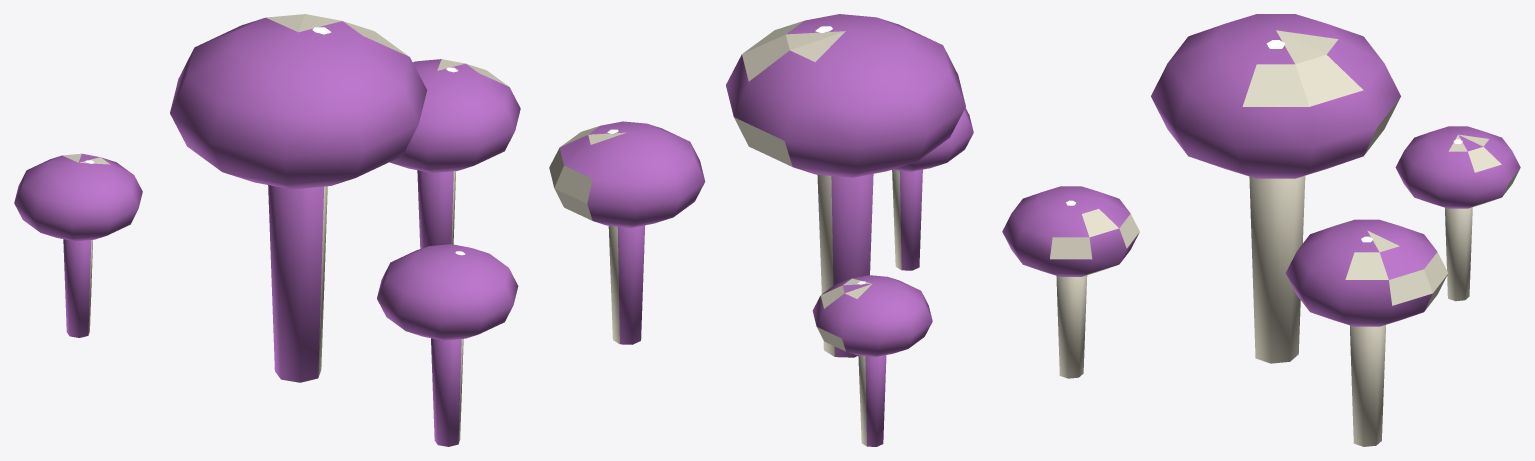
The model's file is mushroom_small.glb.
The picture shows the model from 3 angles, left to right: view 1: azimuth 30°, elevation 25°; view 2: azimuth 150°, elevation 25°; view 3: azimuth 270°, elevation 25°; orthographic projection. The views are drawn at different scales.
Parts seen in each view (by area): view 1: Mushroom_Small; view 2: Mushroom_Small; view 3: Mushroom_Small.
Part boxes in pixels (x1=…): Mushroom_Small: x1=14, y1=14, x2=520, y2=446; Mushroom_Small: x1=549, y1=14, x2=973, y2=446; Mushroom_Small: x1=1002, y1=14, x2=1520, y2=446.
Bounding box in the file's own units: 2.1 × 1.57 × 2.28.
